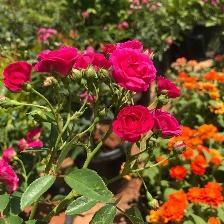rose: (111, 46, 158, 94), (111, 103, 156, 144), (149, 107, 185, 143), (36, 46, 79, 76), (2, 62, 36, 94), (75, 49, 110, 74), (156, 73, 183, 101)
